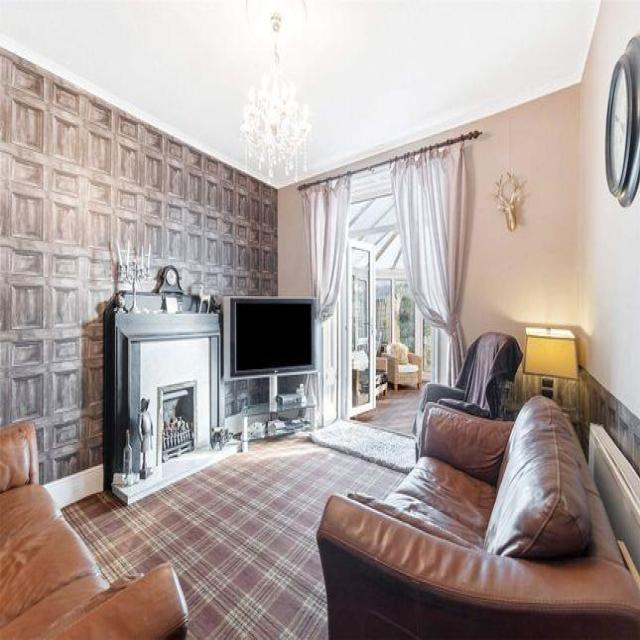Wall: (0, 49, 278, 480), (64, 422, 415, 639), (500, 0, 640, 415), (281, 0, 600, 175), (0, 0, 271, 168), (460, 109, 521, 342), (554, 367, 640, 475), (278, 184, 310, 295), (354, 386, 420, 434), (45, 465, 104, 507), (511, 375, 540, 408)
